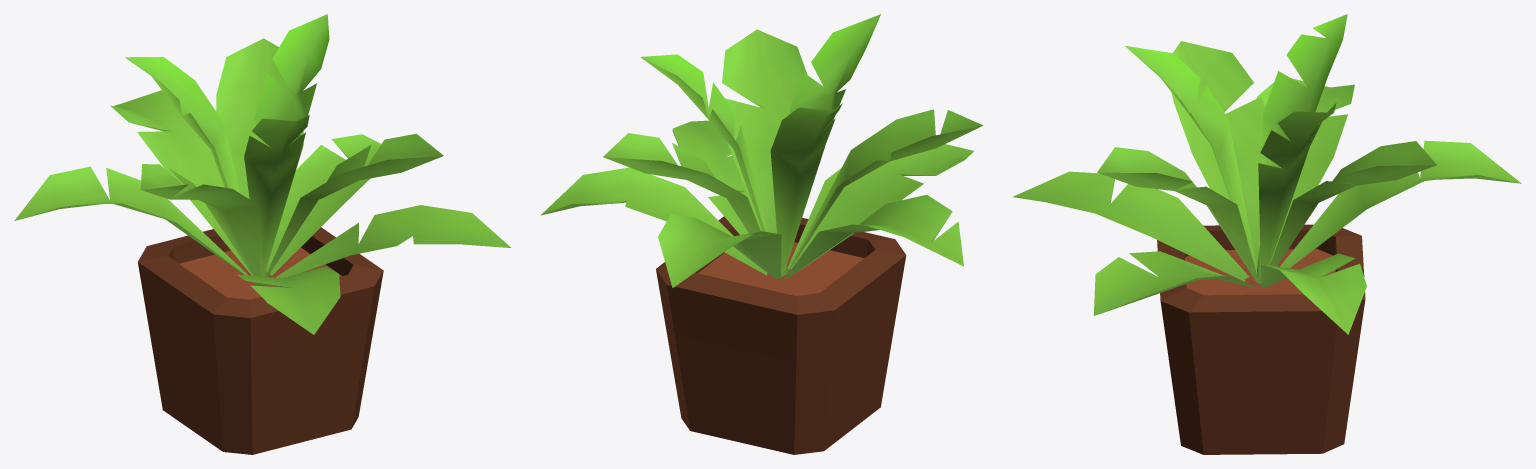
File: Plant_Pot_01.fbx
3 views of the same model, side by side, from view 1: azimuth 30°, elevation 25°; view 2: azimuth 150°, elevation 25°; view 3: azimuth 270°, elevation 25° (orthographic). The views are drawn at different scales.
Visible parts, largest first — view 1: Plant_Pot_01; view 2: Plant_Pot_01; view 3: Plant_Pot_01.
Part boxes in pixels (x1,y1,x2,y2): Plant_Pot_01: (14,14,510,454); Plant_Pot_01: (540,14,983,454); Plant_Pot_01: (1013,14,1521,454).
Size of the model in its own units: 83.13 by 68.29 by 88.04.
Materials: 1 (1 with a texture image).
